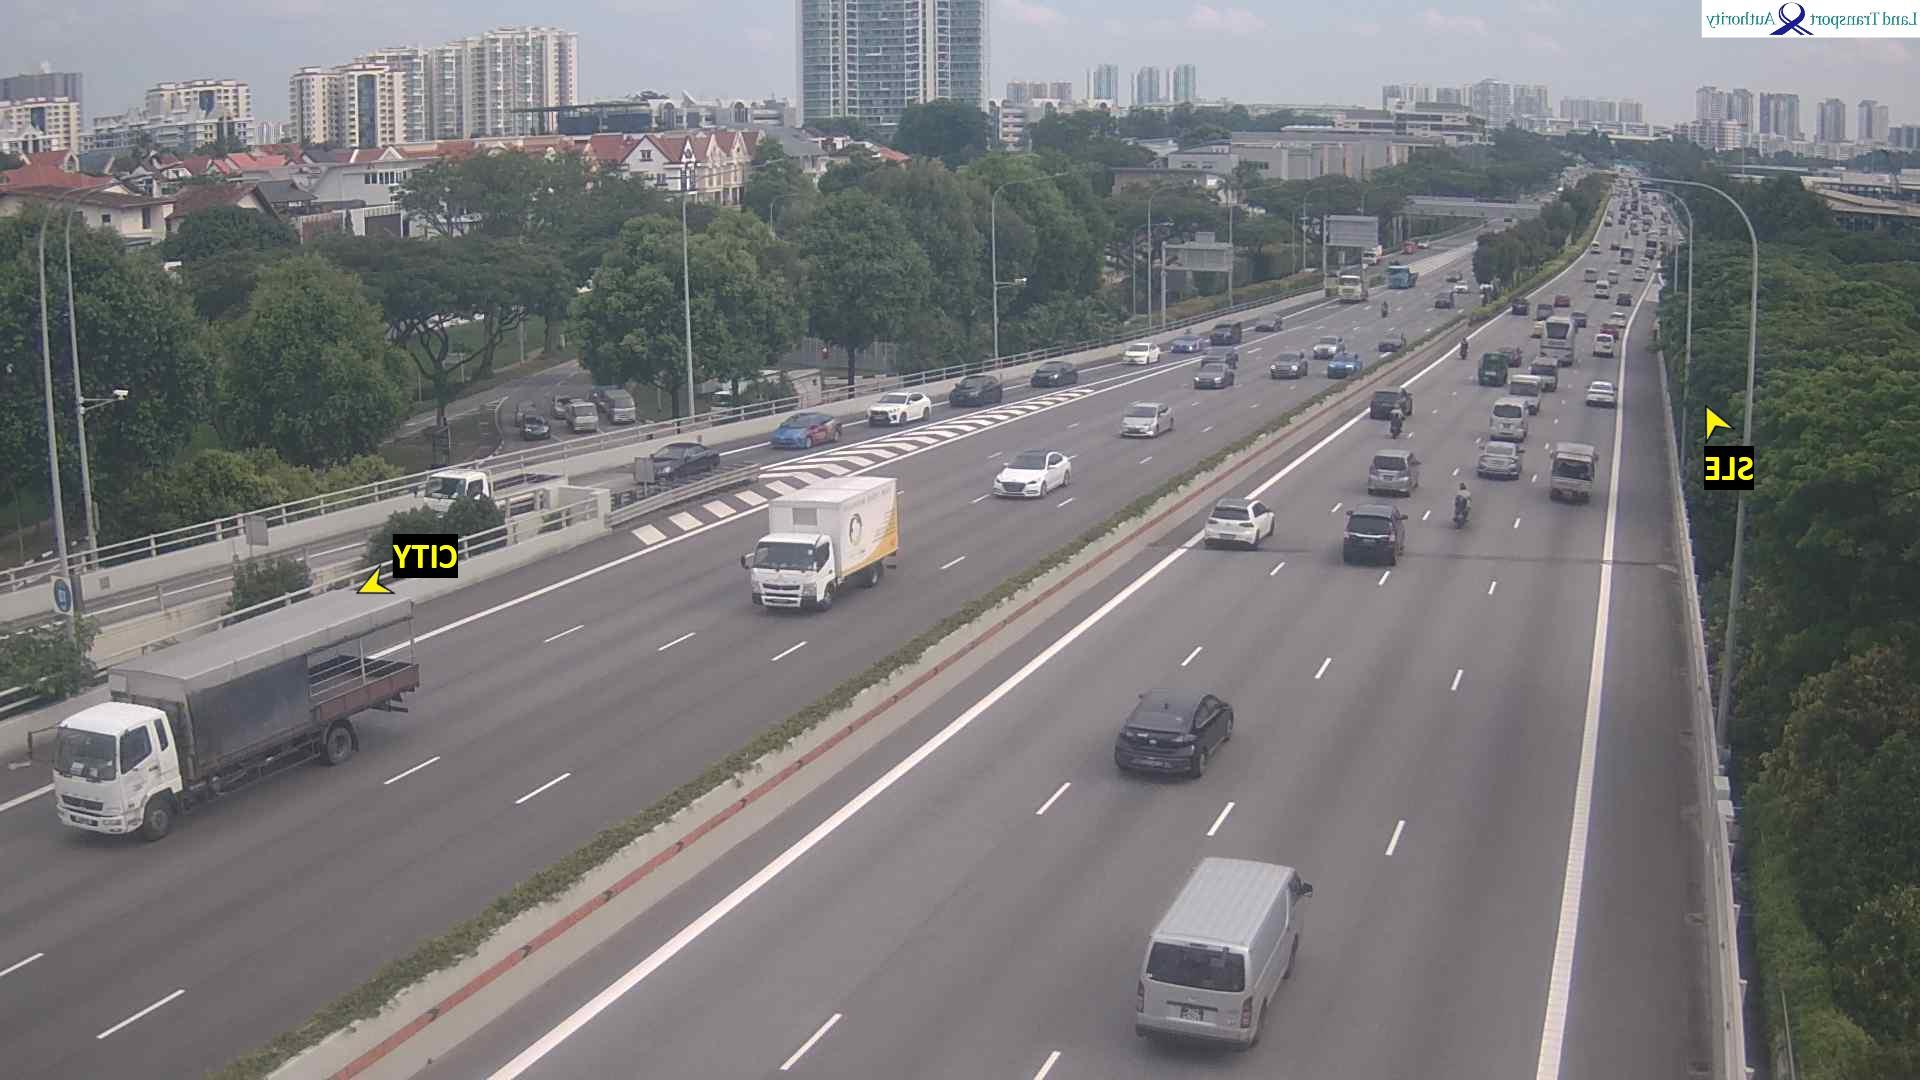cars: (1116, 687, 1236, 778), (1342, 502, 1408, 566), (994, 448, 1075, 498), (1204, 495, 1276, 549), (645, 440, 723, 484), (1549, 440, 1600, 502), (771, 409, 844, 448), (1367, 448, 1422, 496), (868, 390, 934, 425), (1120, 400, 1176, 438), (1477, 438, 1524, 479), (949, 372, 1004, 406), (1490, 396, 1528, 440), (1370, 386, 1414, 419), (1509, 373, 1543, 414), (1193, 357, 1236, 388), (1033, 359, 1079, 386), (1270, 349, 1309, 378), (567, 398, 600, 431), (1530, 355, 1560, 390), (1197, 345, 1237, 372), (1480, 351, 1509, 386), (1327, 351, 1364, 378), (1124, 340, 1162, 365), (608, 390, 637, 423), (1453, 483, 1473, 527), (1493, 342, 1524, 369), (1586, 378, 1617, 406), (1211, 320, 1244, 345), (1313, 335, 1346, 357), (524, 413, 550, 438), (1379, 332, 1408, 355), (1171, 335, 1205, 353), (1255, 313, 1284, 332), (1432, 287, 1456, 311), (1563, 310, 1590, 330), (1594, 332, 1615, 356), (1528, 318, 1549, 342), (1509, 295, 1531, 316), (1597, 322, 1621, 342), (1534, 301, 1555, 322), (1606, 310, 1629, 330), (1451, 278, 1473, 298), (1592, 280, 1611, 301), (1476, 280, 1495, 298), (1580, 265, 1600, 284), (1618, 244, 1635, 265), (1553, 291, 1572, 310), (1615, 289, 1633, 309), (1402, 239, 1419, 257), (1443, 270, 1464, 284), (1605, 268, 1621, 285), (1588, 239, 1604, 256), (1631, 265, 1646, 282), (1638, 255, 1652, 270), (1643, 245, 1658, 261), (1416, 236, 1432, 251), (1609, 239, 1622, 253), (1644, 236, 1659, 249), (1604, 215, 1614, 228)
motorcycle: (1387, 401, 1404, 440), (1458, 336, 1469, 361), (1379, 299, 1389, 319), (1623, 229, 1630, 240)
trucks: (51, 585, 422, 841), (1135, 855, 1315, 1050), (741, 473, 901, 611), (417, 465, 496, 516), (1536, 315, 1576, 367), (1335, 272, 1371, 306), (1383, 262, 1422, 291), (1358, 243, 1383, 268)
